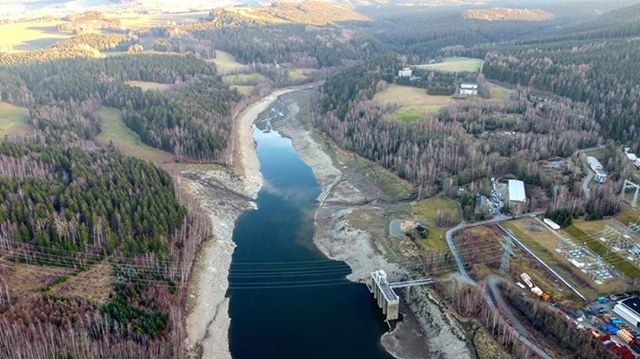river: (224, 109, 381, 359)
vegetation: (1, 1, 239, 359), (358, 1, 628, 202), (229, 1, 381, 107)
